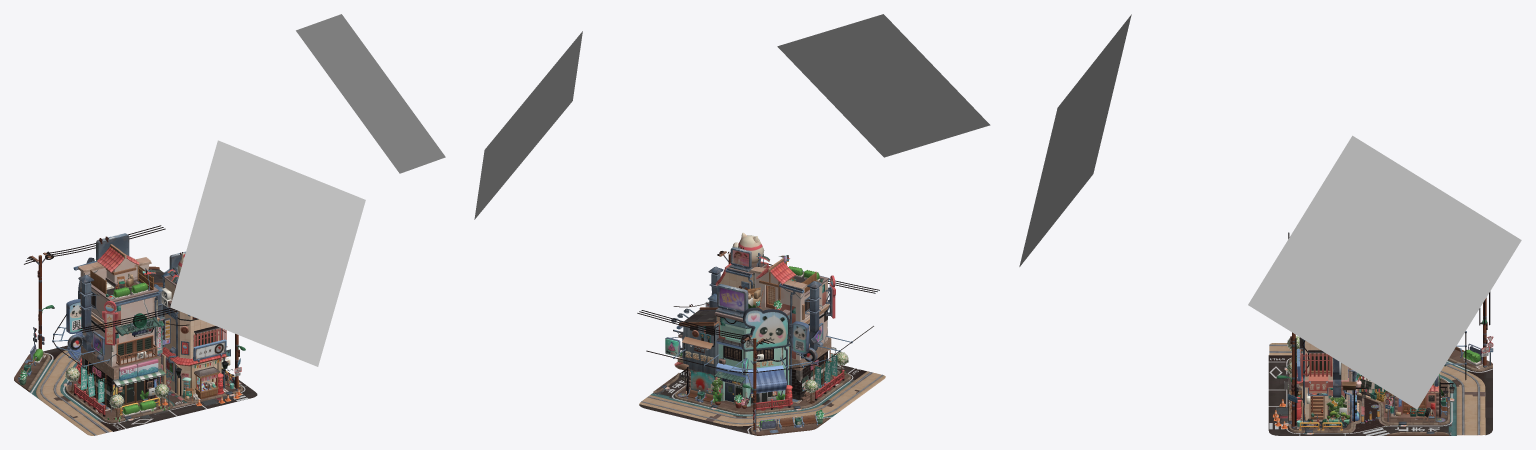
The model's file is LittleTokyo.obj.
3 renders of one model, left to right at view 1: azimuth 30°, elevation 25°; view 2: azimuth 150°, elevation 25°; view 3: azimuth 270°, elevation 25°, orthographic. The views are drawn at different scales.
Parts seen in each view (by area): view 1: Plane.002_Emissive.003, Object649_normal_0_paintmat, Plane.001_Emissive.001, Object649_metalmat_0_paintmat, Object649_Plastic_Soft_0_paintmat, Object649_paintmat_0_paintmat, Object705_Material_#5516_0_alpha, Object649_glassmat_0_paintmat; view 2: Object649_normal_0_paintmat, Plane.002_Emissive.003, Object649_metalmat_0_paintmat, Plane.001_Emissive.001, Object649_paintmat_0_paintmat, Object649_Plastic_Soft_0_paintmat, Object705_Material_#5516_0_alpha, Object649_Material_#5512_0_paintmat; view 3: Plane.001_Emissive.001, Object649_normal_0_paintmat, Plane.002_Emissive.003, Object649_paintmat_0_paintmat, Object649_Plastic_Soft_0_paintmat, Object705_Material_#5516_0_alpha, Object649_metalmat_0_paintmat.
Part boxes in pixels (x1,y1,x2,y2): Plane.002_Emissive.003: [170, 140, 365, 366]; Object649_normal_0_paintmat: [14, 244, 257, 435]; Plane.001_Emissive.001: [296, 14, 445, 173]; Object649_metalmat_0_paintmat: [18, 233, 240, 419]; Object649_Plastic_Soft_0_paintmat: [19, 225, 242, 416]; Object649_paintmat_0_paintmat: [34, 282, 245, 435]; Object705_Material_#5516_0_alpha: [19, 270, 248, 429]; Object649_glassmat_0_paintmat: [52, 307, 214, 357]; Object649_normal_0_paintmat: [639, 250, 885, 435]; Plane.002_Emissive.003: [777, 14, 990, 157]; Object649_metalmat_0_paintmat: [660, 247, 852, 433]; Plane.001_Emissive.001: [474, 31, 582, 219]; Object649_paintmat_0_paintmat: [641, 279, 883, 430]; Object649_Plastic_Soft_0_paintmat: [637, 232, 879, 431]; Object705_Material_#5516_0_alpha: [652, 272, 860, 433]; Object649_Material_#5512_0_paintmat: [663, 266, 839, 410]; Plane.001_Emissive.001: [1248, 135, 1521, 409]; Object649_normal_0_paintmat: [1268, 297, 1492, 435]; Plane.002_Emissive.003: [1019, 14, 1131, 266]; Object649_paintmat_0_paintmat: [1269, 319, 1493, 435]; Object649_Plastic_Soft_0_paintmat: [1272, 232, 1490, 428]; Object705_Material_#5516_0_alpha: [1268, 355, 1492, 435]; Object649_metalmat_0_paintmat: [1280, 331, 1492, 433].
Size of the model in its own units: 50.69 by 40.95 by 50.47.
Materials: 4 (2 with a texture image).
